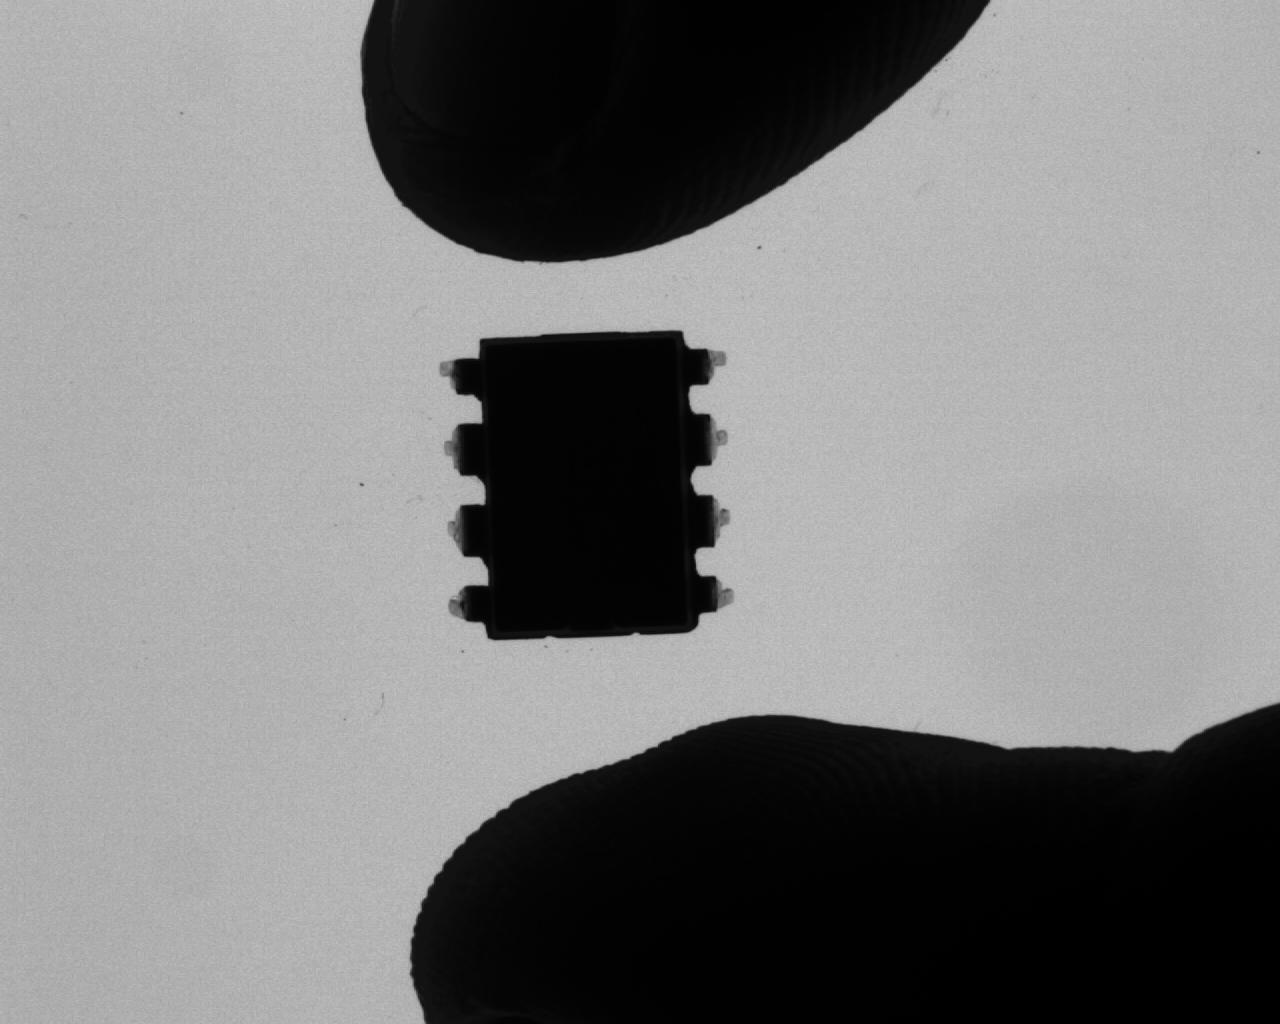Leg: (424, 421, 485, 483), (690, 488, 737, 553), (441, 497, 486, 562), (426, 354, 484, 403), (691, 411, 732, 475), (438, 578, 492, 627), (696, 569, 737, 621), (690, 345, 732, 387)
